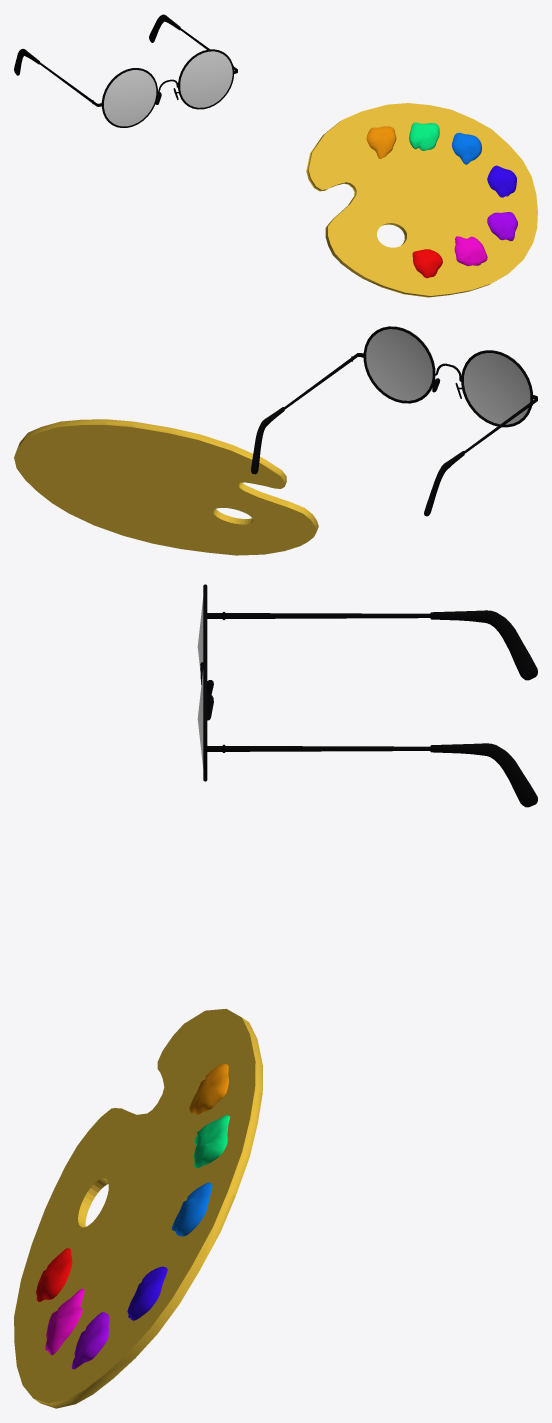
The model's file is musseumHat.glb.
3 renders of one model, top to bottom at view 1: azimuth 30°, elevation 25°; view 2: azimuth 150°, elevation 25°; view 3: azimuth 270°, elevation 25°, orthographic. The views are drawn at different scales.
Visible parts, largest first — view 1: Base, Glasses, Color2, Color6, Color7, Color5, Color4, Color3, Color1; view 2: Base, Glasses; view 3: Base, Glasses, Color2, Color6, Color7, Color3, Color5, Color1, Color4.
Part boxes in pixels (<box>): Base: <box>306,103,537,297</box>; Glasses: <box>14,14,237,127</box>; Color2: <box>454,236,487,266</box>; Color6: <box>409,122,439,150</box>; Color7: <box>366,126,396,158</box>; Color5: <box>452,132,481,164</box>; Color4: <box>487,165,516,197</box>; Color3: <box>487,212,517,240</box>; Color1: <box>412,249,442,278</box>; Base: <box>14,419,318,555</box>; Glasses: <box>251,326,537,516</box>; Base: <box>14,1008,262,1408</box>; Glasses: <box>197,584,537,807</box>; Color2: <box>45,1288,84,1355</box>; Color6: <box>193,1115,230,1168</box>; Color7: <box>189,1063,228,1114</box>; Color3: <box>71,1312,109,1369</box>; Color5: <box>171,1182,212,1236</box>; Color1: <box>36,1248,72,1301</box>; Color4: <box>127,1266,167,1320</box>.
Bounding box in the file's own units: 2.59 × 1.53 × 1.44.
